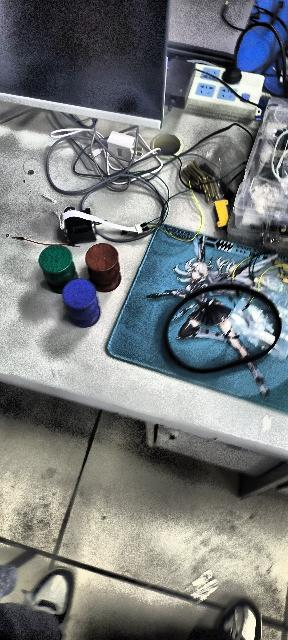blue: (58, 279, 102, 328)
green: (41, 243, 78, 294)
red: (84, 244, 120, 291)
